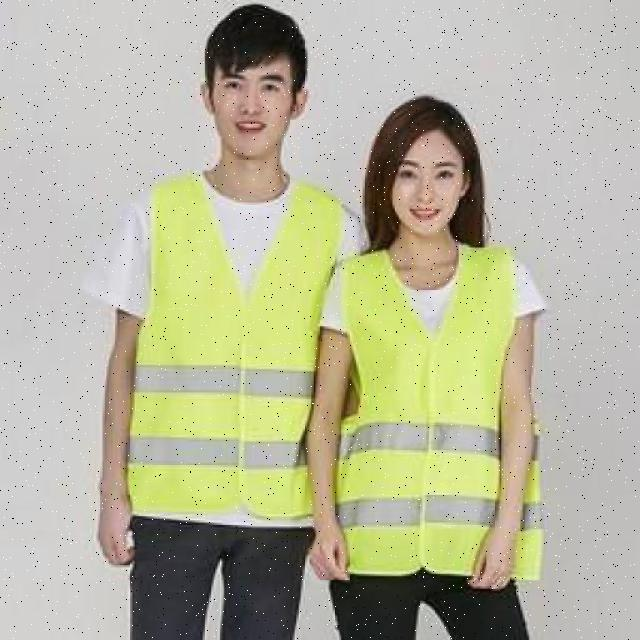Vest: (132, 173, 328, 539), (339, 247, 521, 572)
